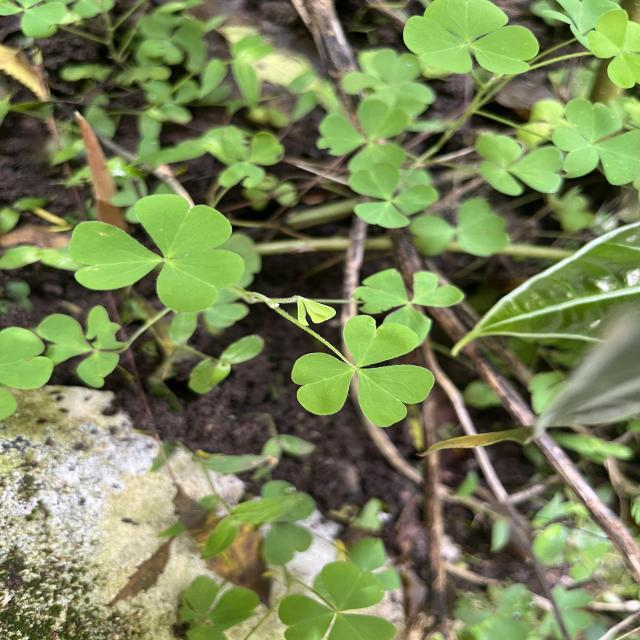Oxalis corniculata: (66, 192, 247, 315), (289, 311, 437, 429), (402, 0, 542, 77), (278, 560, 402, 640), (550, 97, 640, 186), (348, 162, 439, 230)
